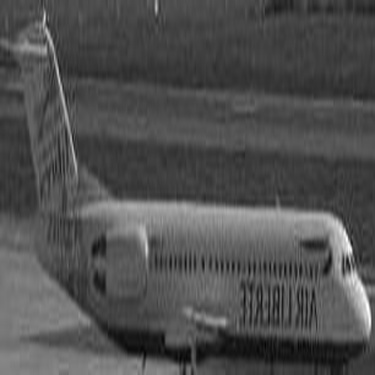airplane: (7, 5, 372, 369)
